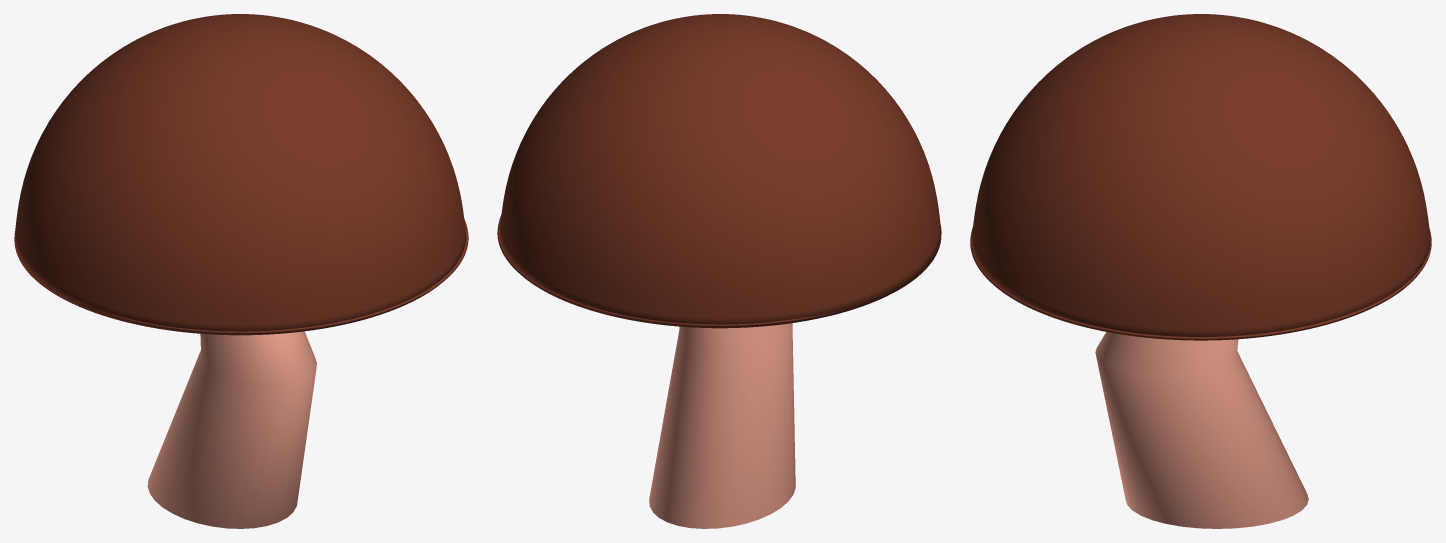
The model's file is mushroom_f802f732.glb.
The picture shows the model from 3 angles, left to right: view 1: azimuth 30°, elevation 25°; view 2: azimuth 150°, elevation 25°; view 3: azimuth 270°, elevation 25°; orthographic projection. The views are drawn at different scales.
Parts seen in each view (by area): view 1: Sphere_2, Cylinder_3; view 2: Sphere_2, Cylinder_3; view 3: Sphere_2, Cylinder_3.
Part boxes in pixels (x1,y1,x2,y2): Sphere_2: (14, 14, 468, 335); Cylinder_3: (147, 331, 316, 528); Sphere_2: (497, 14, 941, 328); Cylinder_3: (649, 323, 795, 528); Sphere_2: (970, 14, 1431, 340); Cylinder_3: (1095, 332, 1308, 528).
Size of the model in its own units: 2 by 2.24 by 2.
